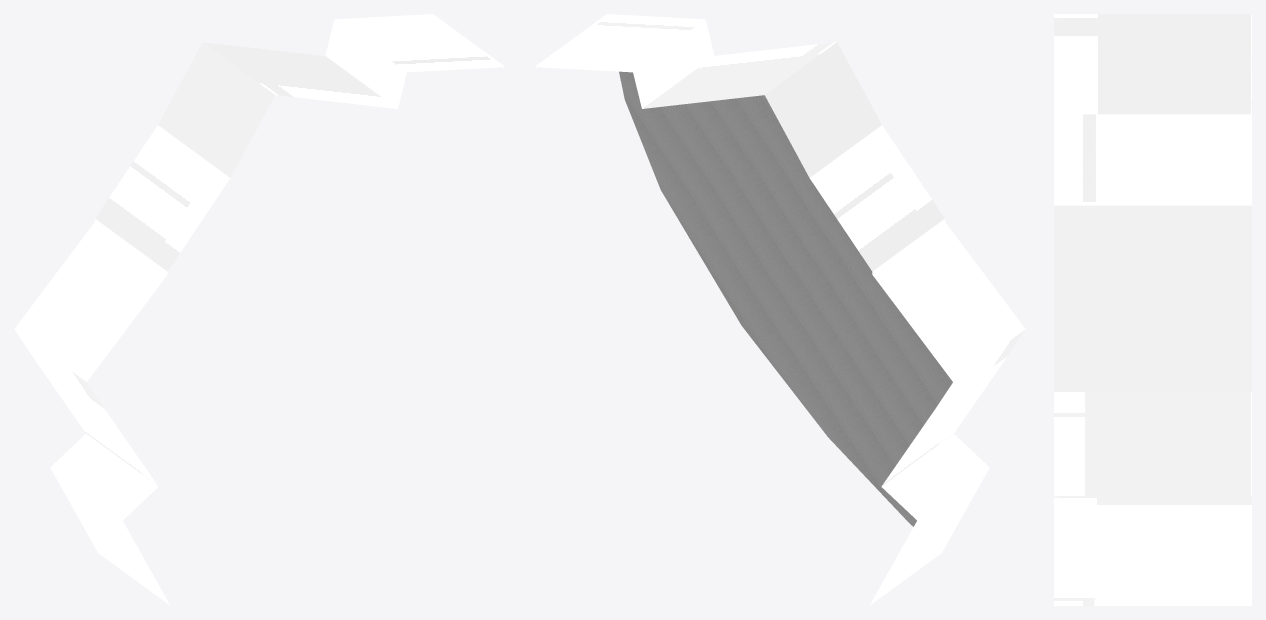
The picture shows the model from 3 angles, left to right: view 1: azimuth 30°, elevation 25°; view 2: azimuth 150°, elevation 25°; view 3: azimuth 270°, elevation 25°; orthographic projection. The views are drawn at different scales.
Parts seen in each view (by area): view 1: BuildingMaster_2003194597004462590500000000_0; view 2: BuildingMaster_2003194597004462590500000000_0, BuildingMaster_2003194597004462590500000000_1; view 3: BuildingMaster_2003194597004462590500000000_0.
Part boxes in pixels (bbox=[...]): BuildingMaster_2003194597004462590500000000_0: bbox=[14, 14, 504, 605]; BuildingMaster_2003194597004462590500000000_0: bbox=[535, 14, 1025, 605]; BuildingMaster_2003194597004462590500000000_1: bbox=[619, 71, 952, 526]; BuildingMaster_2003194597004462590500000000_0: bbox=[1054, 14, 1251, 605].
Size of the model in its own units: 35 by 38.75 by 10.5.
